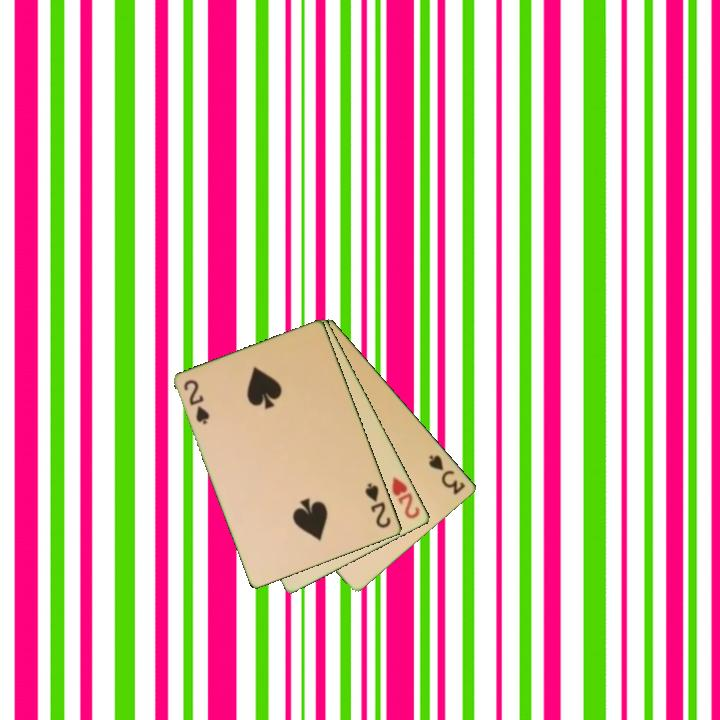2h: (388, 473, 423, 522)
2s: (362, 479, 394, 531), (181, 376, 213, 427)
3s: (425, 451, 468, 498)
